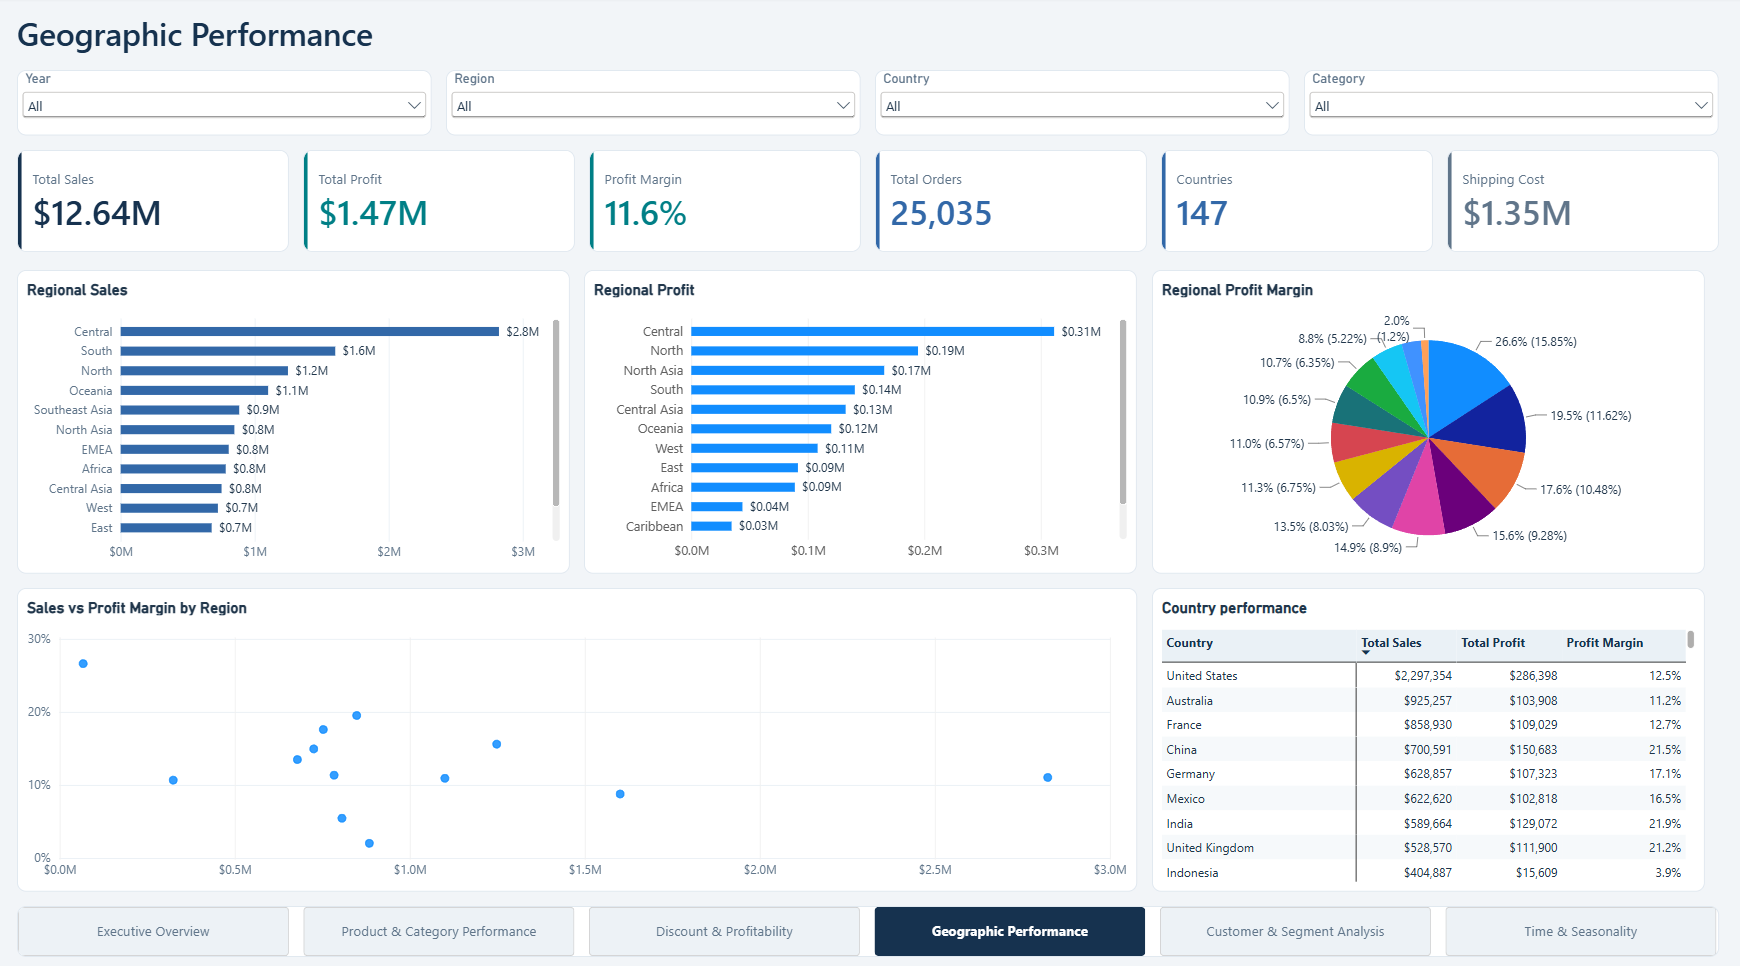

This screenshot's page, from the dashboard's own definition file:
{"tool":"powerbi","page":{"name":"Geographic Performance","canvas":[1920,1080],"ordinal":3},"visuals":[{"type":"textbox","box":[24,16,1872,48],"z":1000},{"type":"slicer","fields":{"Values":["Global Superstore Cleaned._Year"]},"box":[24,80,456,72],"z":2000},{"type":"slicer","fields":{"Values":["Global Superstore Cleaned.Region"]},"box":[496,80,456,72],"z":3000},{"type":"slicer","fields":{"Values":["Global Superstore Cleaned.Country"]},"box":[968,80,456,72],"z":4000},{"type":"slicer","fields":{"Values":["Global Superstore Cleaned.Category"]},"box":[1440,80,456,72],"z":5000},{"type":"cardVisual","fields":{"Data":["Global Superstore Cleaned.Total Sales"]},"box":[24,168,298.7,112],"z":6000},{"type":"cardVisual","fields":{"Data":["Global Superstore Cleaned.Total Profit"]},"box":[338.7,168,298.7,112],"z":7000},{"type":"cardVisual","fields":{"Data":["Global Superstore Cleaned.Profit Margin"]},"box":[653.3,168,298.7,112],"z":8000},{"type":"cardVisual","fields":{"Data":["Global Superstore Cleaned.Total Orders"]},"box":[968,168,298.7,112],"z":9000},{"type":"cardVisual","fields":{"Data":["Countries(Global Superstore Cleaned.Country)"]},"box":[1282.7,168,298.7,112],"z":10000},{"type":"cardVisual","fields":{"Data":["Shipping Cost(Global Superstore Cleaned.ShippingCost)"]},"box":[1597.3,168,298.7,112],"z":11000},{"type":"clusteredBarChart","title":"Regional Sales","fields":{"Category":["Global Superstore Cleaned.Region"],"Y":["Global Superstore Cleaned.Total Sales"]},"box":[24,300,608,334],"z":12000},{"type":"clusteredBarChart","title":"Regional Profit","fields":{"Category":["Global Superstore Cleaned.Region"],"Y":["Global Superstore Cleaned.Total Profit"]},"box":[648,300,608,334],"z":13000},{"type":"clusteredBarChart","title":"Regional Profit Margin","fields":{"Category":["Global Superstore Cleaned.Region"],"Y":["Global Superstore Cleaned.Profit Margin"]},"box":[1272,300,608,334],"z":14000},{"type":"scatterChart","title":"Sales vs Profit Margin by Region","fields":{"Category":["Global Superstore Cleaned.Region"],"X":["Global Superstore Cleaned.Total Sales"],"Y":["Global Superstore Cleaned.Profit Margin"]},"box":[24,650,1232,334],"z":15000},{"type":"pivotTable","title":"Country performance","fields":{"Rows":["Global Superstore Cleaned.Country"],"Values":["Global Superstore Cleaned.Total Sales","Global Superstore Cleaned.Total Profit","Global Superstore Cleaned.Profit Margin"]},"box":[1272,650,608,334],"z":16000},{"type":"pageNavigator","box":[24,1000,1872,56],"z":17000}]}

Visuals, with their boxes in screenshot pixels (x1, y1, x2, y2), scaled from the page's 1920x1080 canvas onto the 1740x966 screenshot:
textbox: l=22, t=14, r=1718, b=57
slicer - Global Superstore Cleaned._Year: l=22, t=72, r=435, b=136
slicer - Global Superstore Cleaned.Region: l=450, t=72, r=863, b=136
slicer - Global Superstore Cleaned.Country: l=877, t=72, r=1290, b=136
slicer - Global Superstore Cleaned.Category: l=1305, t=72, r=1718, b=136
cardVisual - Global Superstore Cleaned.Total Sales: l=22, t=150, r=292, b=250
cardVisual - Global Superstore Cleaned.Total Profit: l=307, t=150, r=578, b=250
cardVisual - Global Superstore Cleaned.Profit Margin: l=592, t=150, r=863, b=250
cardVisual - Global Superstore Cleaned.Total Orders: l=877, t=150, r=1148, b=250
cardVisual - Countries(Global Superstore Cleaned.Country): l=1162, t=150, r=1433, b=250
cardVisual - Shipping Cost(Global Superstore Cleaned.ShippingCost): l=1448, t=150, r=1718, b=250
"Regional Sales" clusteredBarChart: l=22, t=268, r=573, b=567
"Regional Profit" clusteredBarChart: l=587, t=268, r=1138, b=567
"Regional Profit Margin" clusteredBarChart: l=1153, t=268, r=1704, b=567
"Sales vs Profit Margin by Region" scatterChart: l=22, t=581, r=1138, b=880
"Country performance" pivotTable: l=1153, t=581, r=1704, b=880
pageNavigator: l=22, t=894, r=1718, b=945
